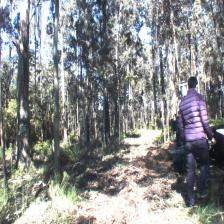trunktrack_idkeyframe: (14, 46, 32, 169), (54, 62, 60, 170)
